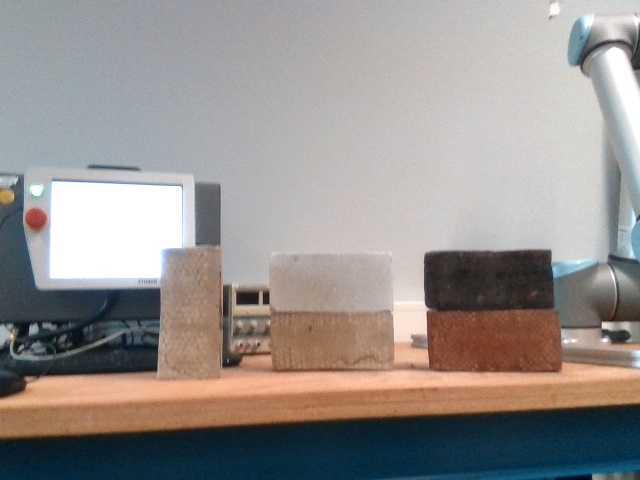brick: (159, 247, 220, 379), (427, 312, 558, 371), (427, 251, 550, 310), (271, 254, 389, 311), (271, 316, 389, 365)
